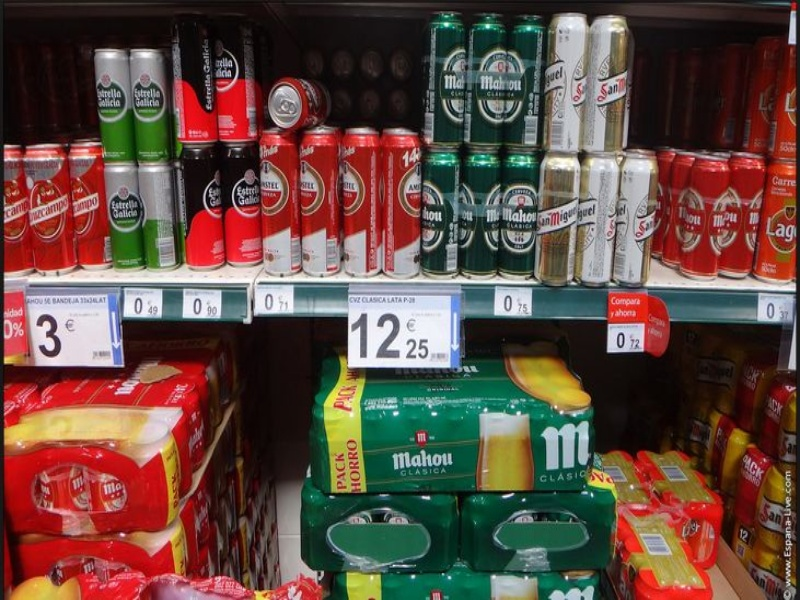beer: (609, 147, 661, 288), (585, 11, 636, 154), (170, 11, 224, 145), (679, 152, 733, 285), (299, 127, 345, 275), (24, 144, 73, 280), (259, 129, 304, 275), (717, 152, 767, 282), (342, 126, 385, 277), (424, 8, 469, 150), (466, 10, 511, 151), (215, 9, 259, 146), (380, 125, 419, 279), (539, 150, 580, 289), (498, 150, 540, 282), (183, 140, 224, 273), (70, 136, 109, 274), (221, 137, 258, 279), (576, 153, 614, 290), (462, 150, 502, 280), (422, 151, 462, 278), (91, 47, 135, 161), (506, 16, 544, 147), (549, 11, 582, 153), (103, 163, 145, 271), (135, 45, 169, 166), (142, 166, 180, 274)
